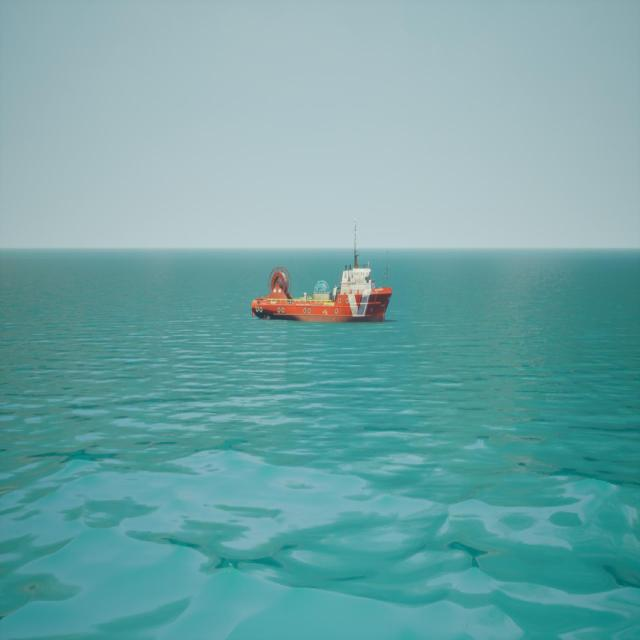tug boat: (252, 220, 395, 325)
